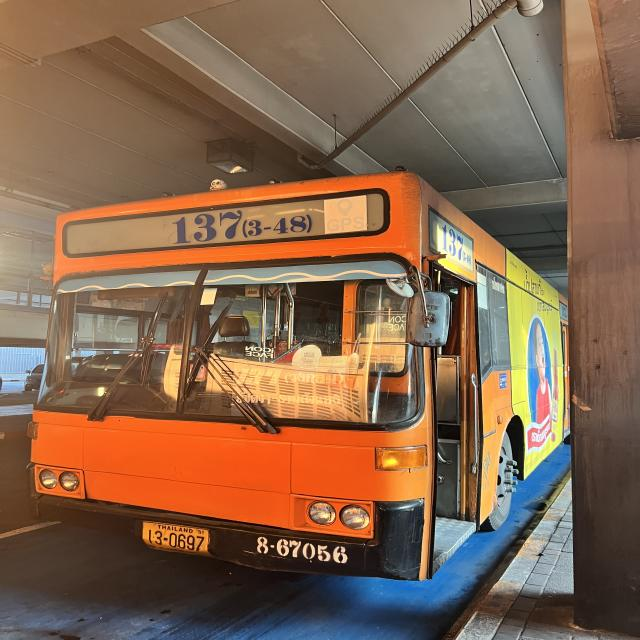BMTA-bus: (28, 172, 572, 584)
Bus-Line-Number: (163, 202, 317, 248)
Destination-Sign-Normal: (235, 363, 361, 418)
